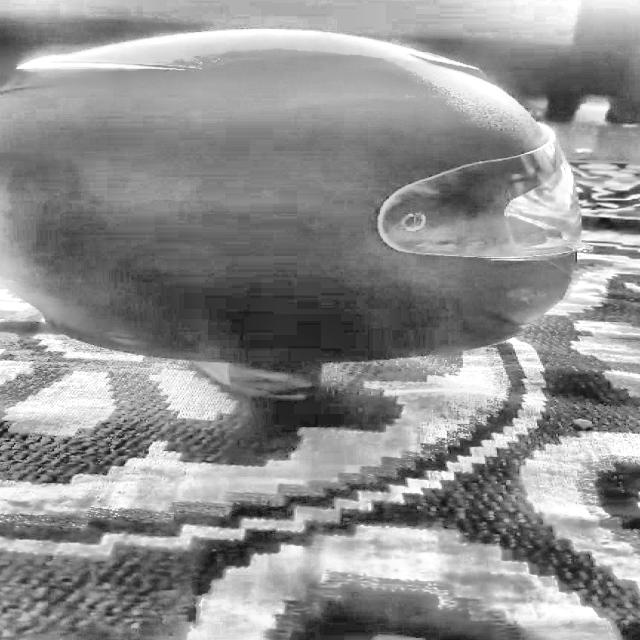Helmet: (0, 19, 590, 387)
